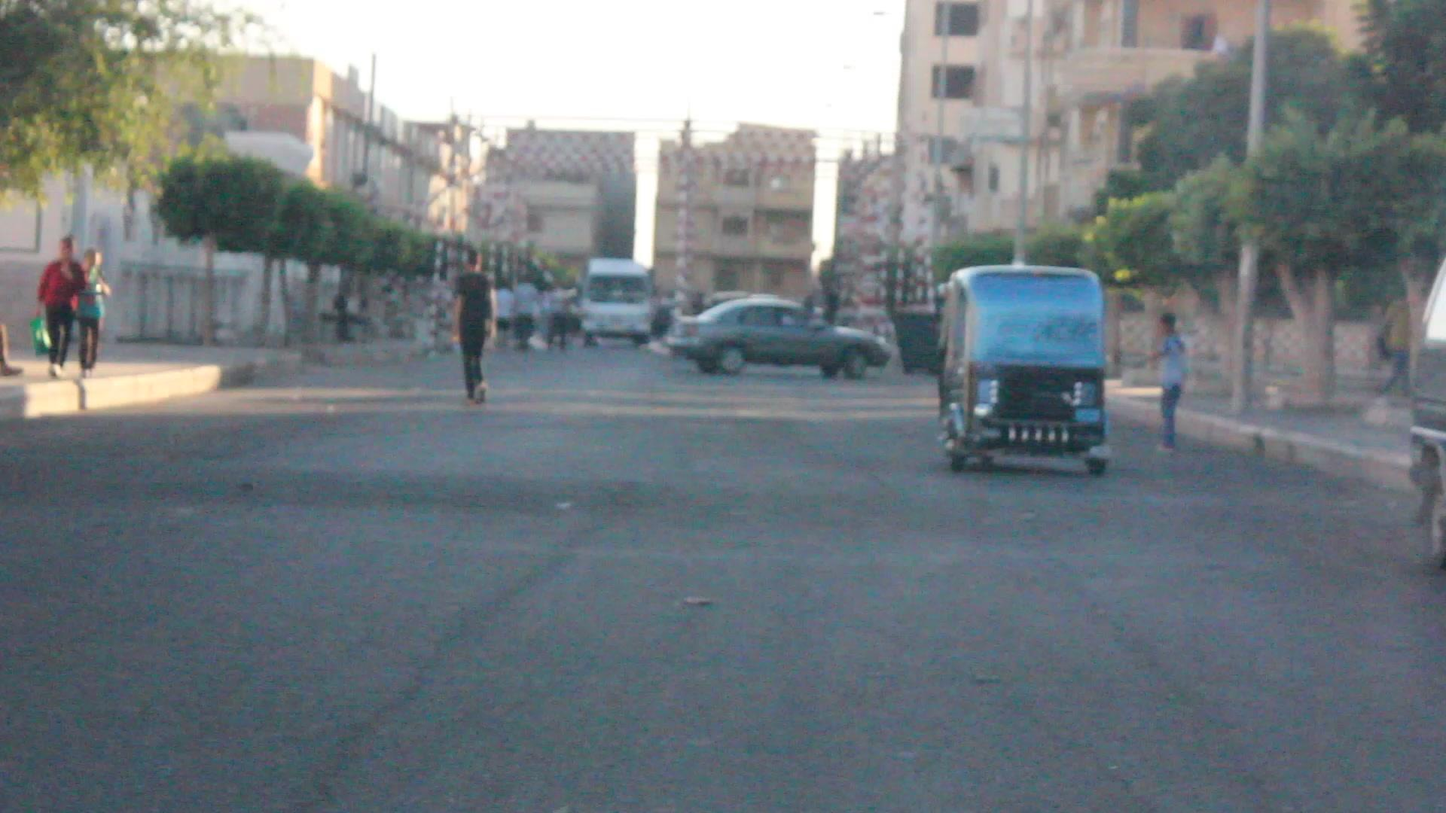Bump: (13, 457, 1446, 557)
